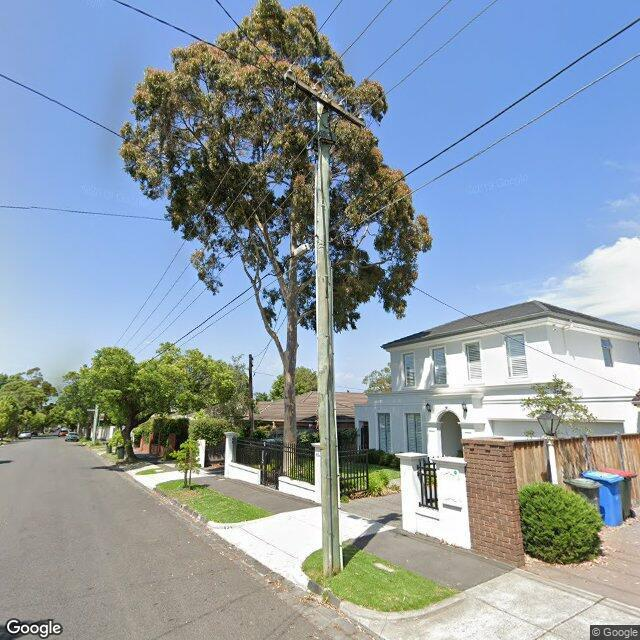crossarm: (284, 74, 366, 128)
timber-pole: (315, 99, 343, 575), (249, 354, 254, 439)
